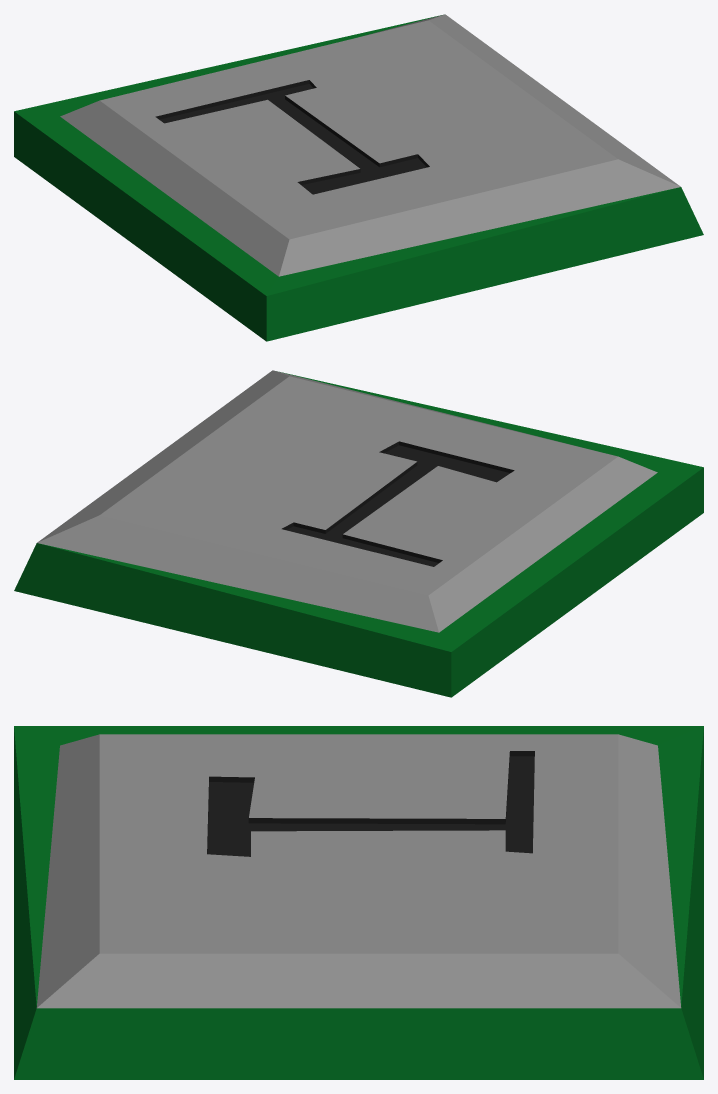
Rendered from processeur.fbx.
The picture shows the model from 3 angles, top to bottom: view 1: azimuth 30°, elevation 25°; view 2: azimuth 150°, elevation 25°; view 3: azimuth 270°, elevation 25°; orthographic projection. The views are drawn at different scales.
Visible parts, largest first — view 1: Cube.005; view 2: Cube.005; view 3: Cube.005.
Boxes of the visible parts, x1,y1,x2,y2 form: Cube.005: (14,14,703,341); Cube.005: (14,370,703,697); Cube.005: (14,726,703,1079).
Size of the model in its own units: 312 by 45.02 by 312.
